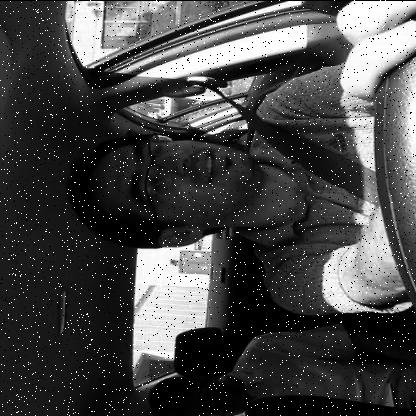seatbelt: (55, 70, 396, 246)
